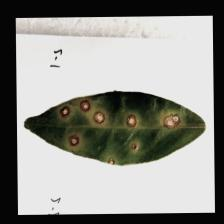canker: (53, 88, 188, 162)
